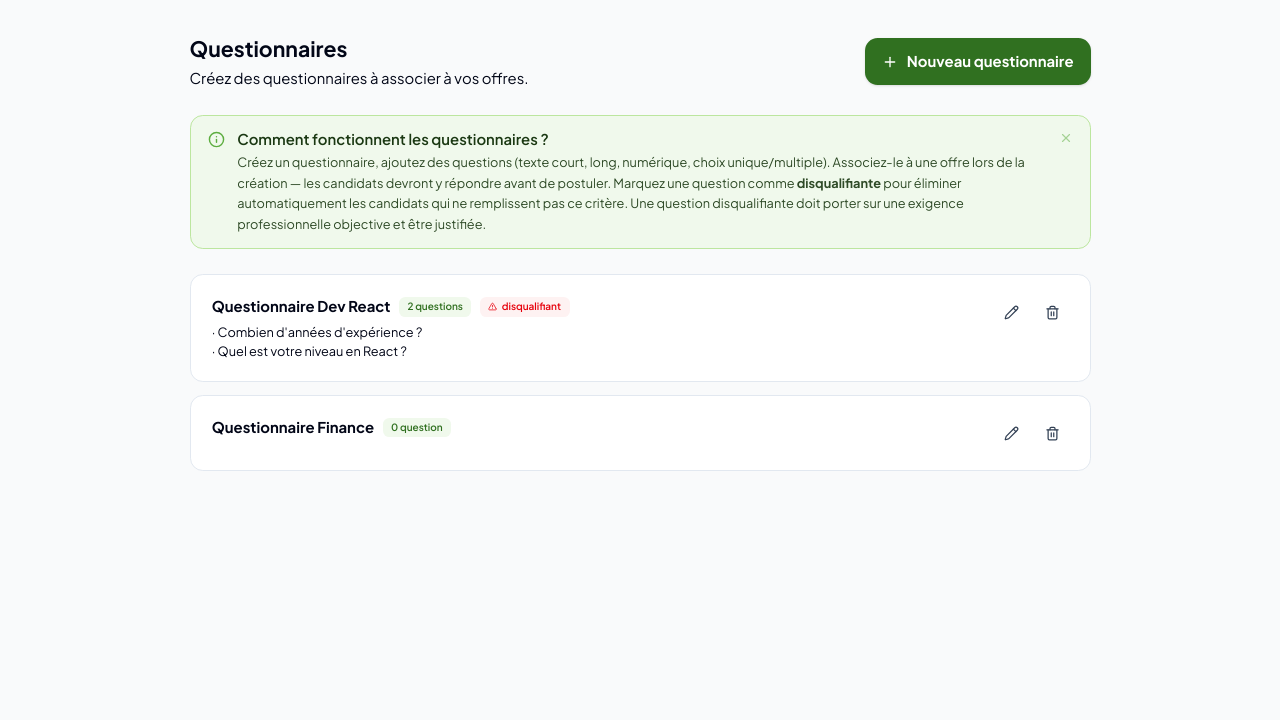
Test: 📋 UI & Logique - Composant <Questionnaires /> › 🟢 HP5 : Ouverture modale édition avec données pré-remplies
The width and height of the screenshot is (1280, 720).
What coordinates should you click on to do the following:
click the button named "Modifier le questionnaire" in the row of "Combien d'années d'expérience ?"
I would click on:
 (1012, 312)
Its box is [996,296,1028,328].
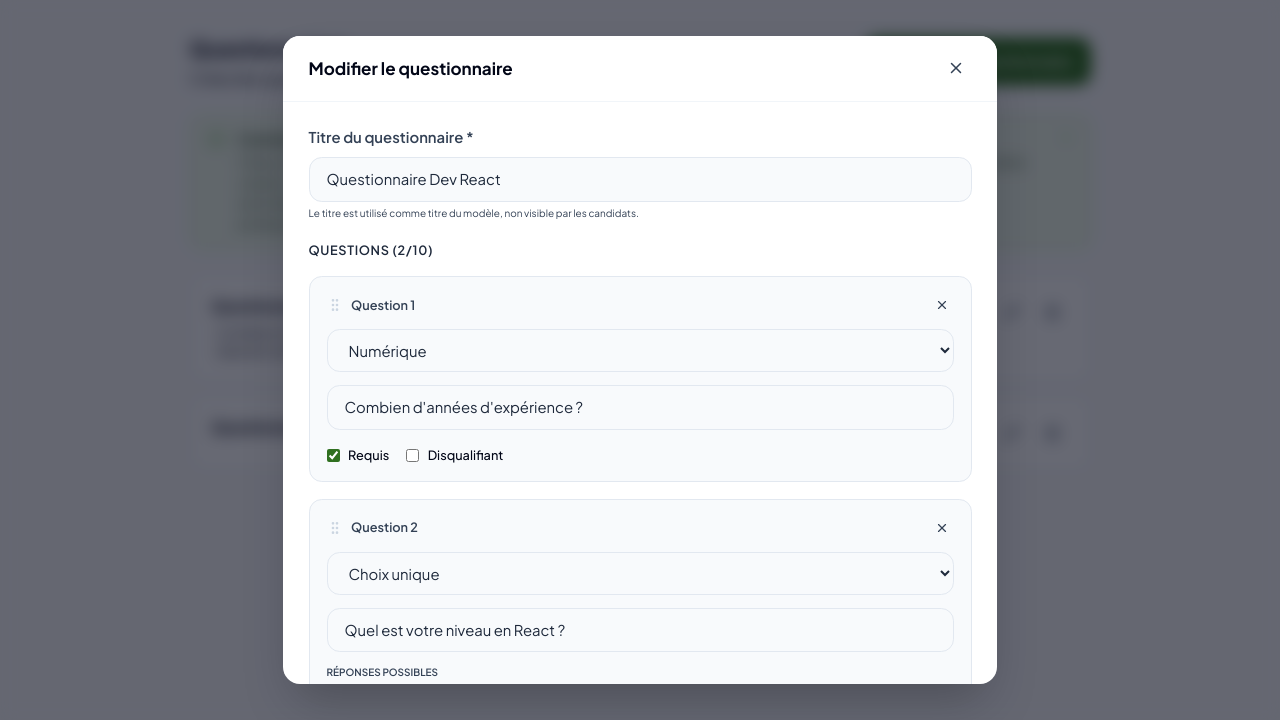
Expected: the field showing "Questionnaire Dev React" below "Titre du questionnaire *" is shown, [308,157,972,202]
